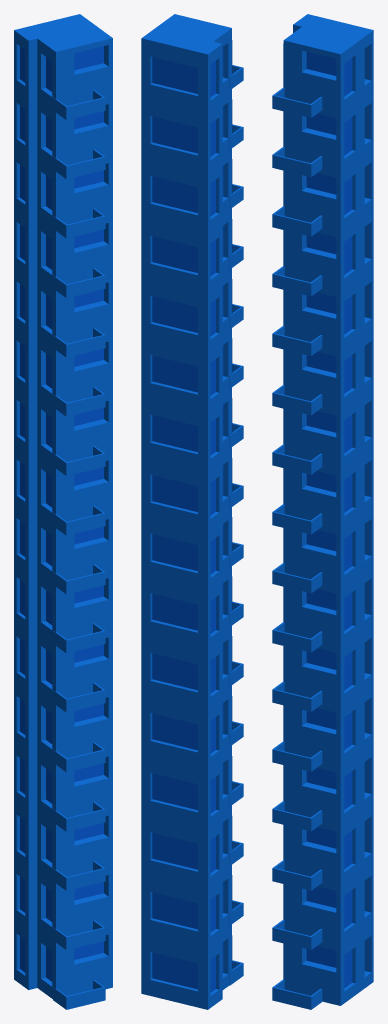
Rendered from bina.fbx.
3 views of the same model, side by side, from view 1: azimuth 30°, elevation 25°; view 2: azimuth 150°, elevation 25°; view 3: azimuth 330°, elevation 25° (orthographic).
Visible parts, largest first — view 1: Cube, mavi; view 2: Cube, mavi; view 3: Cube, mavi.
Part boxes in pixels (x1,y1,x2,y2): Cube: (14,14,112,1009); mavi: (20,46,103,981); Cube: (141,14,243,1009); mavi: (152,47,223,992); Cube: (272,14,373,1009); mavi: (306,52,352,987).
Size of the model in its own units: 519 by 7136 by 598.
